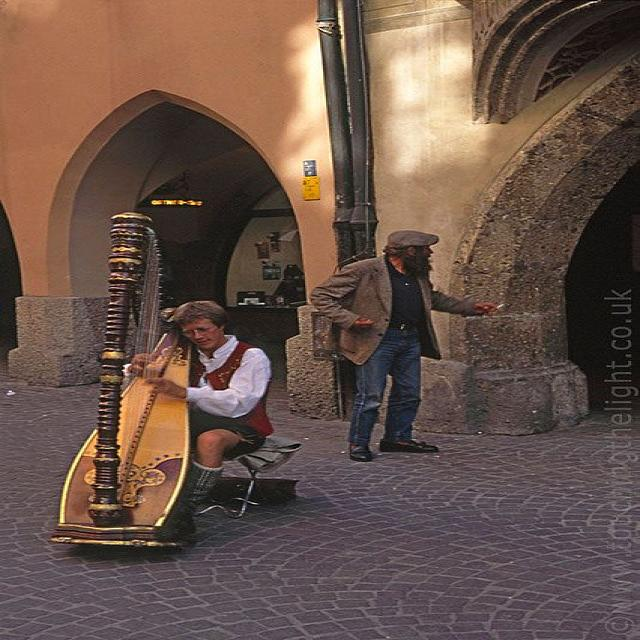harp: (49, 210, 210, 552)
